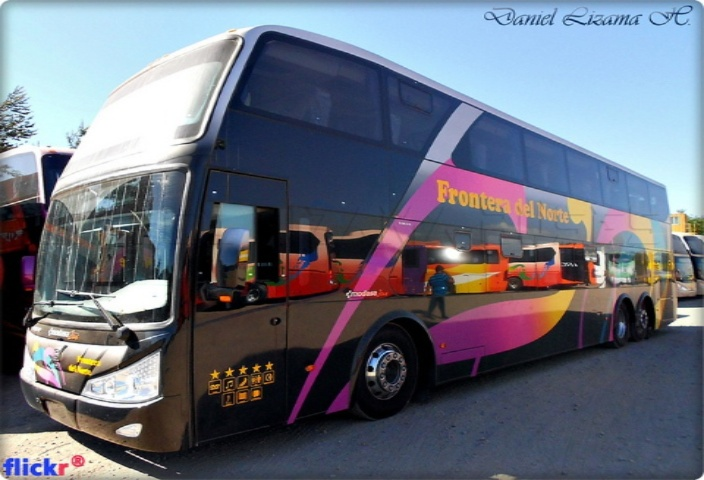bus: (16, 37, 680, 424)
